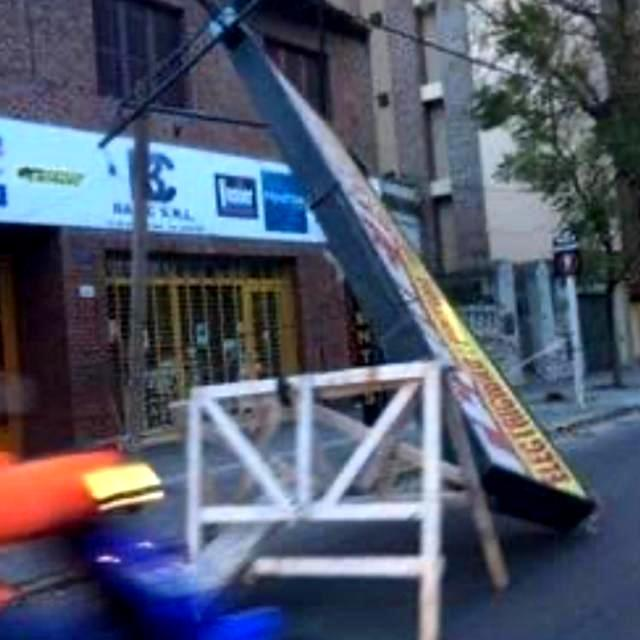Broken Pole: (95, 0, 603, 540)
